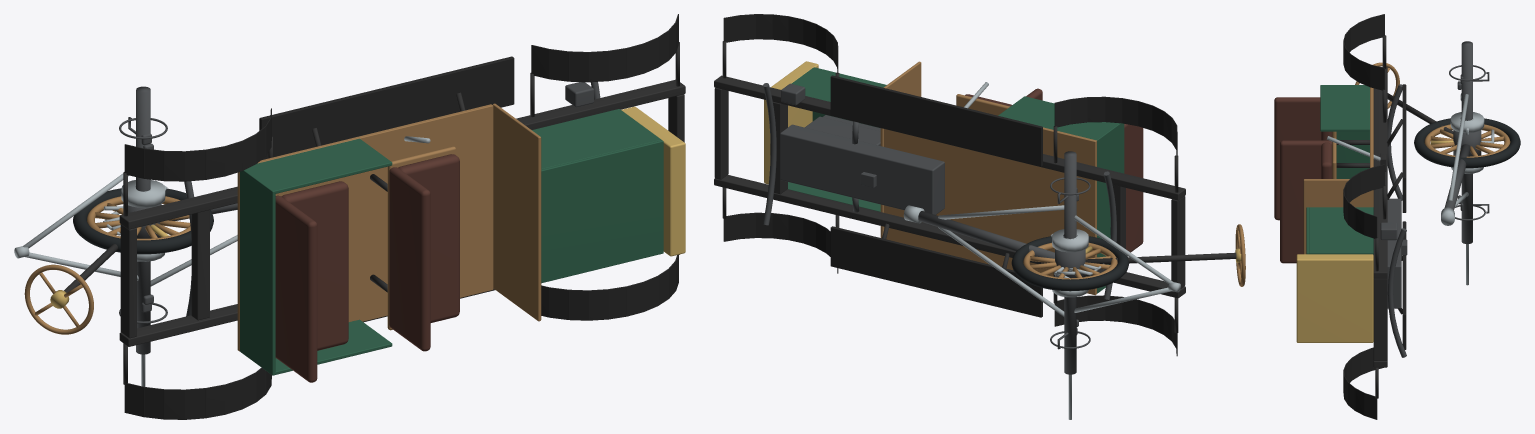
The model's file is car.glb.
3 renders of one model, left to right at view 1: azimuth 30°, elevation 25°; view 2: azimuth 150°, elevation 25°; view 3: azimuth 270°, elevation 25°, orthographic. The views are drawn at different scales.
Parts seen in each view (by area): view 1: chassis|133, chassis|153, chassis|205, chassis|132, chassis|147, chassis|146, chassis|152, chassis|145, chassis|139, chassis|1, chassis|150, chassis|151 (+32 smaller); view 2: chassis|133, chassis|6, chassis|205, chassis|178, chassis|0, chassis|1, front_left|71, chassis|147, rear_axle|47, chassis|150, chassis|152, rear_axle|49 (+21 smaller); view 3: chassis|118, chassis|146, chassis|147, chassis|151, chassis|150, chassis|1, front_left|71, chassis|132, rear_axle|47, chassis|3, chassis|6, chassis|152 (+25 smaller).
Boxes of the visible parts, box(x1,y1,x2,y2) form: chassis|133: box(237, 104, 493, 351); chassis|153: box(541, 140, 663, 283); chassis|205: box(259, 56, 514, 160); chassis|132: box(492, 103, 541, 321); chassis|147: box(275, 195, 317, 382); chassis|146: box(389, 167, 430, 351); chassis|152: box(240, 169, 275, 374); chassis|145: box(281, 181, 348, 350); chassis|139: box(398, 154, 459, 322); chassis|1: box(119, 79, 685, 229); chassis|150: box(242, 138, 392, 193); chassis|151: box(532, 109, 661, 169); chassis|133: box(884, 127, 1096, 295); chassis|6: box(780, 124, 944, 214); chassis|205: box(830, 75, 1042, 166); chassis|178: box(830, 226, 1042, 317); chassis|0: box(714, 175, 1185, 298); chassis|1: box(714, 75, 1185, 200); front_left|71: box(1011, 236, 1128, 291); chassis|147: box(1124, 124, 1143, 252); rear_axle|47: box(1064, 151, 1076, 374); chassis|150: box(998, 96, 1122, 142); chassis|152: box(1097, 123, 1124, 293); rear_axle|49: box(918, 211, 1054, 258); chassis|118: box(1296, 254, 1373, 342); chassis|146: box(1280, 140, 1332, 263); chassis|147: box(1274, 97, 1320, 220); chassis|151: box(1309, 207, 1373, 254); chassis|150: box(1320, 85, 1369, 131); chassis|1: box(1373, 67, 1387, 278); front_left|71: box(1414, 118, 1520, 168); chassis|132: box(1303, 179, 1373, 254); rear_axle|47: box(1461, 41, 1472, 244); chassis|3: box(1373, 278, 1387, 360); chassis|6: box(1387, 198, 1401, 308); chassis|152: box(1336, 131, 1369, 178).
Size of the model in its own units: 4.03 by 1.92 by 1.76.
